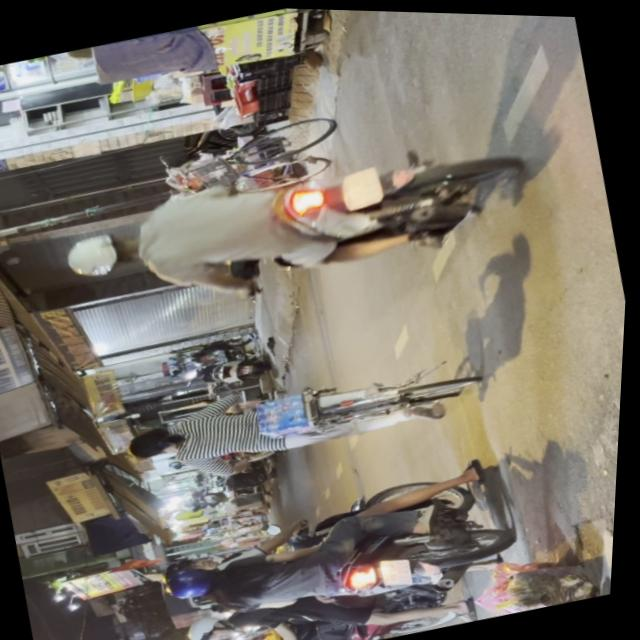helmet: (60, 221, 144, 283), (167, 558, 231, 604), (188, 608, 242, 640)
licenseplate: (51, 109, 542, 335), (150, 448, 529, 640)
nohelmet: (338, 163, 385, 209), (381, 553, 417, 587)
